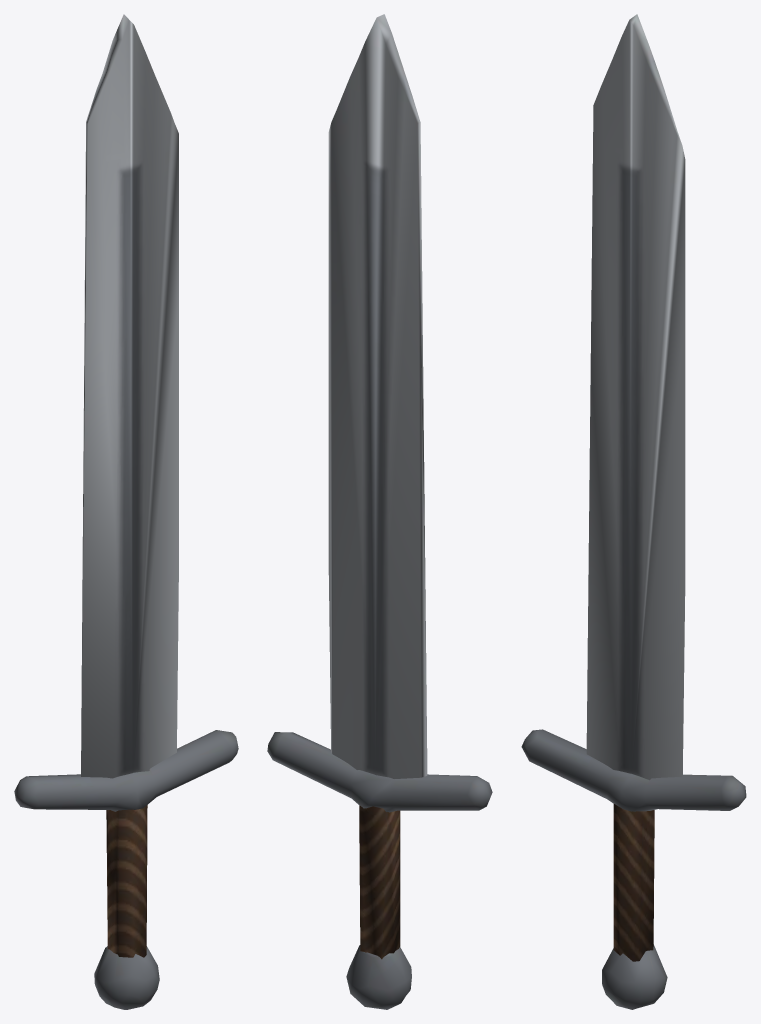
The model's file is warrior-sword.glb.
3 renders of one model, left to right at view 1: azimuth 30°, elevation 25°; view 2: azimuth 150°, elevation 25°; view 3: azimuth 330°, elevation 25°, orthographic.
Parts seen in each view (by area): view 1: blade; view 2: blade; view 3: blade.
Part boxes in pixels (x1,y1,x2,y2): blade: [14, 14, 238, 1009]; blade: [267, 14, 492, 1009]; blade: [521, 14, 746, 1009].
Bounding box in the file's own units: 0.214 × 0.9178 × 0.0547.
1 material, 1 textured.
